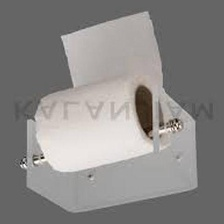tissue: (26, 5, 175, 178)
